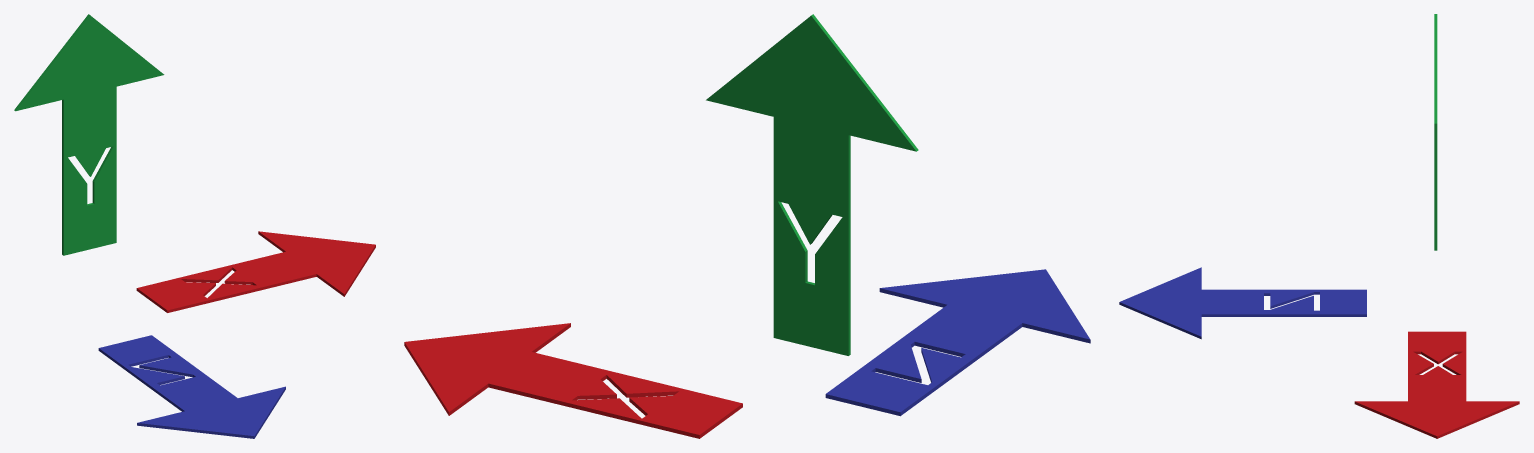
File: XYZ_Origin_Object.obj
The picture shows the model from 3 angles, left to right: view 1: azimuth 30°, elevation 25°; view 2: azimuth 150°, elevation 25°; view 3: azimuth 270°, elevation 25°; orthographic projection. The views are drawn at different scales.
Visible parts, largest first — view 1: Object.3, Object.1, Object.2; view 2: Object.3, Object.1, Object.2; view 3: Object.2, Object.1, Object.3.
Boxes of the visible parts, x1,y1,x2,y2 form: Object.3: (14, 14, 164, 255); Object.1: (136, 231, 375, 312); Object.2: (98, 335, 285, 438); Object.3: (706, 14, 918, 355); Object.1: (404, 323, 742, 438); Object.2: (825, 269, 1090, 416); Object.2: (1119, 267, 1366, 339); Object.1: (1354, 331, 1519, 438); Object.3: (1434, 14, 1437, 250).
Size of the model in its own units: 68.37 by 54.78 by 68.37.
